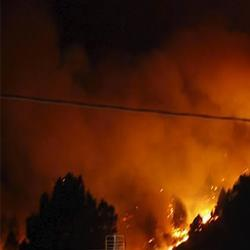fire: (173, 227, 188, 241), (200, 208, 211, 225)
